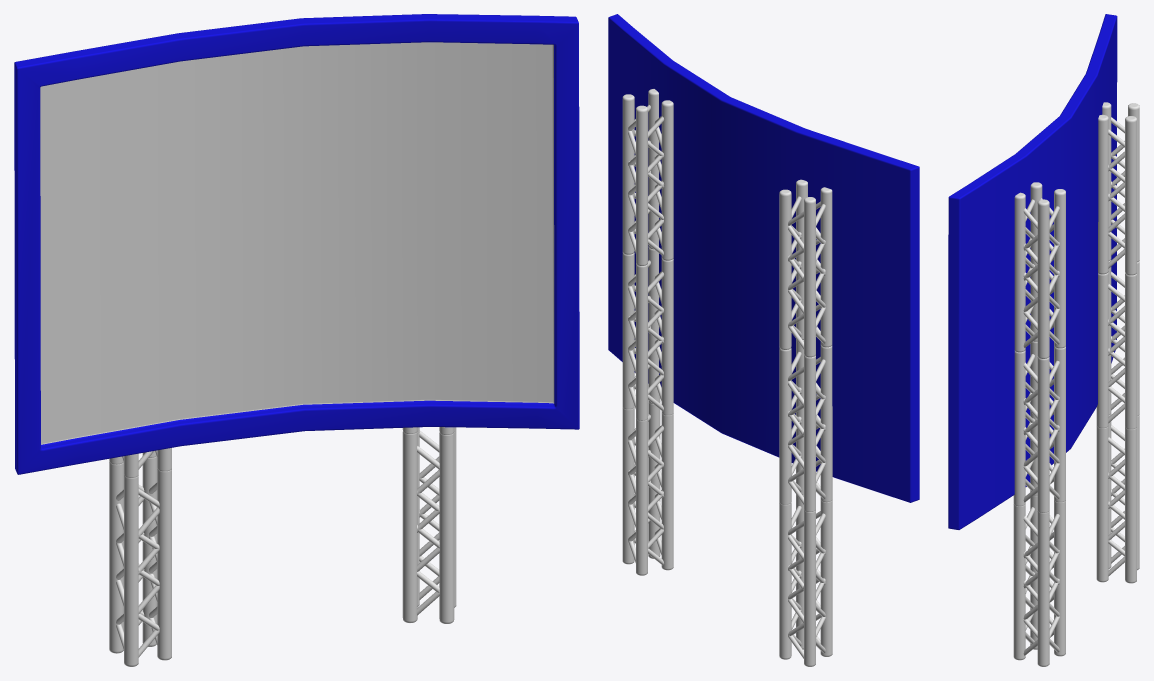
Rendered from SM_BillBoard_Curved.fbx.
The picture shows the model from 3 angles, left to right: view 1: azimuth 30°, elevation 25°; view 2: azimuth 150°, elevation 25°; view 3: azimuth 270°, elevation 25°; orthographic projection. The views are drawn at different scales.
Parts seen in each view (by area): view 1: Plane.016; view 2: Plane.016; view 3: Plane.016.
Boxes of the visible parts, x1,y1,x2,y2 form: Plane.016: (14,14,579,666); Plane.016: (608,14,919,666); Plane.016: (948,14,1139,666).
Size of the model in its own units: 1481 by 1886 by 641.
